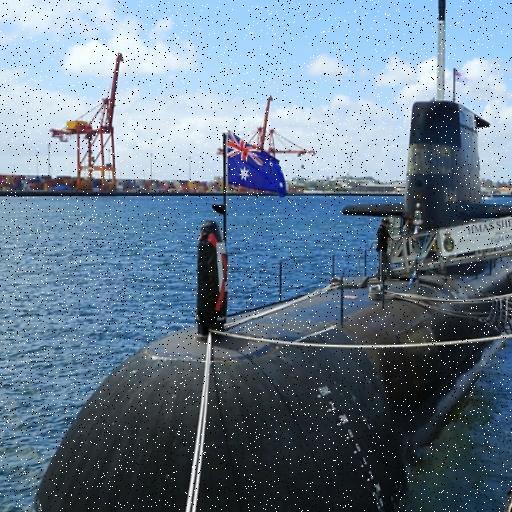submarine: (22, 1, 512, 512)
